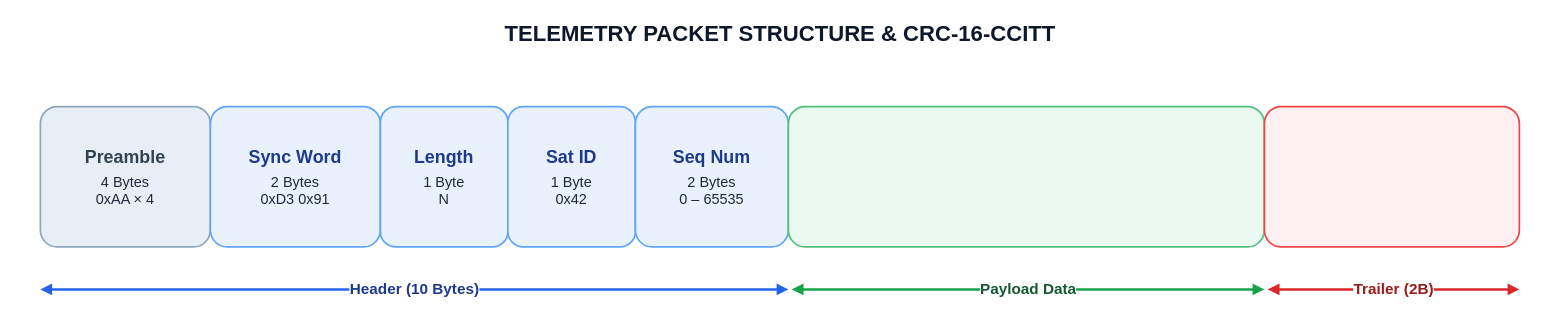
Some shapes in this 1559 by 313 pixel diagram are drawn without their labels. Here are the shapes that lost their labels. From the top down, the box of each, then its label:
(787, 105, 1265, 247): Telemetry Payload N − 5 Bytes Vbat • SOC • Temp • IMU • GPS
(1263, 105, 1520, 247): CRC-16-CCITT 2 Bytes 0x1021
